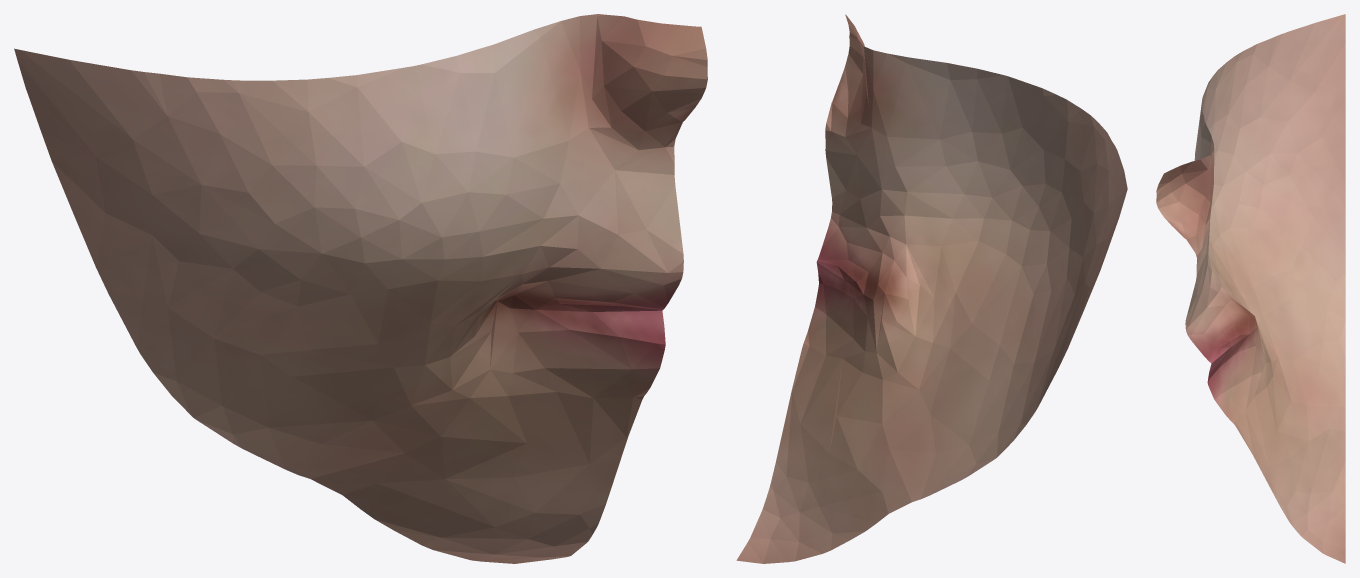
3 renders of one model, left to right at view 1: azimuth 30°, elevation 25°; view 2: azimuth 150°, elevation 25°; view 3: azimuth 270°, elevation 25°, orthographic. The views are drawn at different scales.
Visible parts, largest first — view 1: 091_W_Aya_100K_01; view 2: 091_W_Aya_100K_01; view 3: 091_W_Aya_100K_01.
Part boxes in pixels (x1=…): 091_W_Aya_100K_01: x1=14, y1=14, x2=707, y2=563; 091_W_Aya_100K_01: x1=736, y1=14, x2=1127, y2=563; 091_W_Aya_100K_01: x1=1156, y1=14, x2=1345, y2=563.
Bounding box in the file's own units: 62.69 × 71.49 × 31.46.
Materials: 1 (1 with a texture image).
